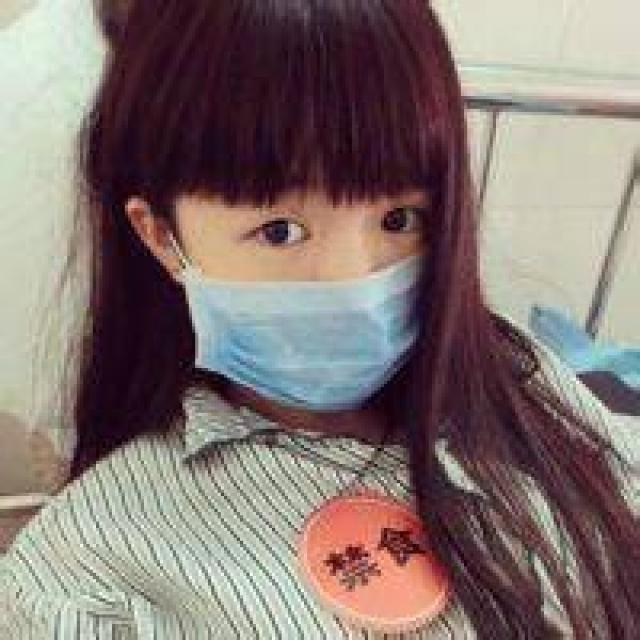mask: (182, 88, 432, 405)
